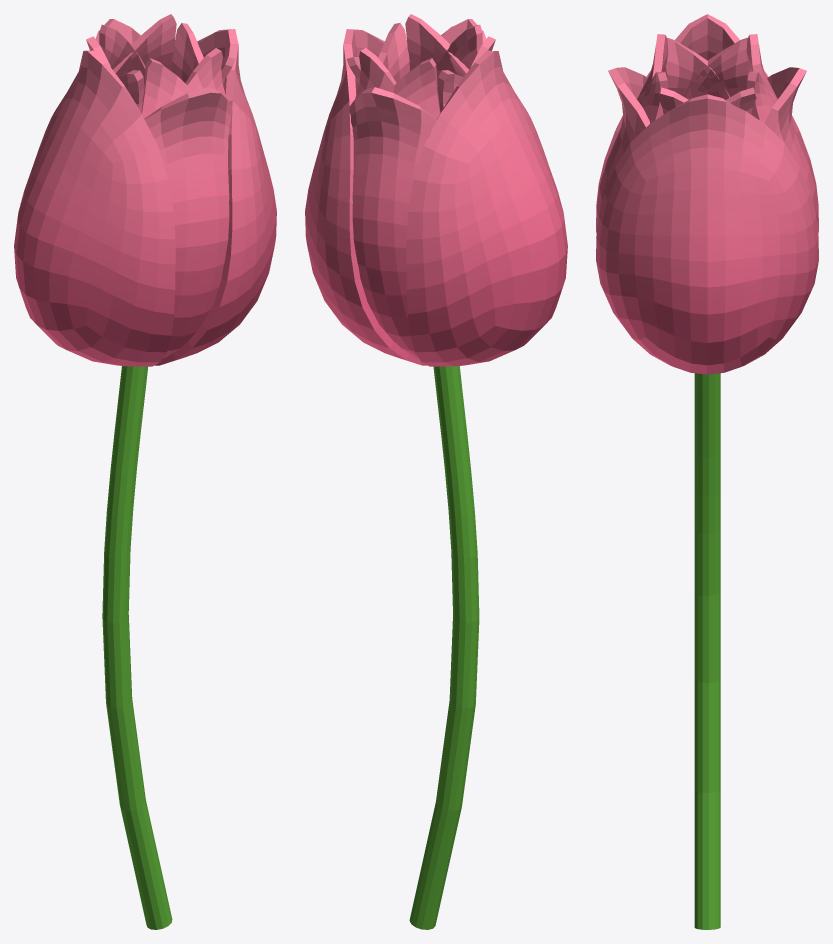
Rendered from Tulip_Pink.fbx.
3 views of the same model, side by side, from view 1: azimuth 30°, elevation 25°; view 2: azimuth 150°, elevation 25°; view 3: azimuth 270°, elevation 25° (orthographic).
Parts seen in each view (by area): view 1: Roundcube.005, Cylinder, Roundcube.001, Roundcube.002, Roundcube.003; view 2: Roundcube.005, Cylinder, Roundcube.001, Roundcube.002, Roundcube.003; view 3: Roundcube.005, Cylinder, Roundcube.001, Roundcube.003, Roundcube.002.
Boxes of the visible parts, x1,y1,x2,y2 form: Roundcube.005: (14, 29, 276, 366); Cylinder: (102, 366, 172, 929); Roundcube.001: (95, 19, 232, 358); Roundcube.002: (99, 14, 226, 118); Roundcube.003: (86, 23, 235, 112); Roundcube.005: (305, 29, 567, 366); Cylinder: (409, 366, 479, 929); Roundcube.001: (349, 19, 486, 358); Roundcube.002: (355, 14, 482, 119); Roundcube.003: (346, 23, 495, 112); Roundcube.005: (596, 14, 818, 374); Cylinder: (694, 373, 720, 929); Roundcube.001: (597, 67, 817, 223); Roundcube.003: (658, 37, 756, 114); Roundcube.002: (637, 34, 777, 123).
Bounding box in the file's own units: 97.06 × 337 × 77.21.
Materials: 1 (1 with a texture image).
